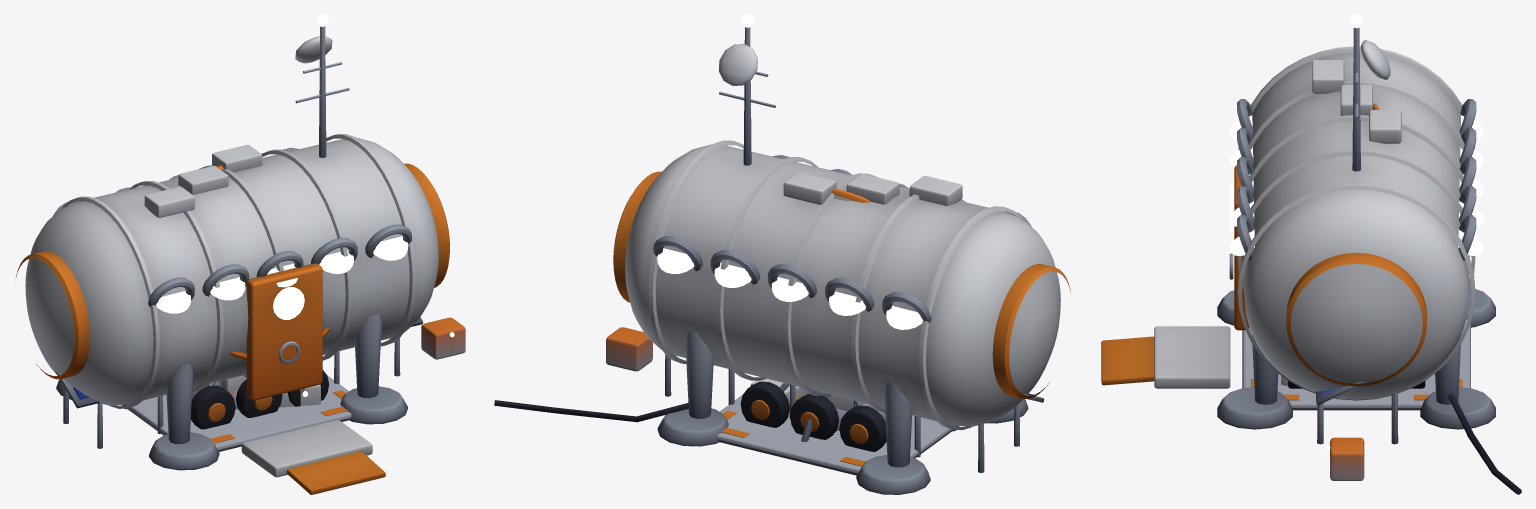
The model's file is props-moon.glb.
3 renders of one model, left to right at view 1: azimuth 30°, elevation 25°; view 2: azimuth 150°, elevation 25°; view 3: azimuth 270°, elevation 25°, orthographic. The views are drawn at different scales.
Visible parts, largest first — view 1: prop-moon-habitat, prop-moon-pad, prop-moon-solar, prop-moon-rover, prop-moon-dish; view 2: prop-moon-habitat, prop-moon-pad, prop-moon-rover, prop-moon-solar; view 3: prop-moon-habitat, prop-moon-pad, prop-moon-solar.
Part boxes in pixels (x1,y1,x2,y2): prop-moon-habitat: [15, 14, 449, 494]; prop-moon-pad: [122, 375, 351, 451]; prop-moon-solar: [55, 317, 465, 448]; prop-moon-rover: [190, 370, 328, 429]; prop-moon-dish: [204, 165, 330, 407]; prop-moon-habitat: [494, 14, 1070, 494]; prop-moon-pad: [717, 395, 958, 475]; prop-moon-rover: [740, 381, 886, 451]; prop-moon-solar: [606, 327, 1044, 472]; prop-moon-habitat: [1101, 14, 1521, 494]; prop-moon-pad: [1242, 319, 1470, 410]; prop-moon-solar: [1316, 381, 1398, 480].
Bounding box in the file's own units: 5.9 × 4.89 × 4.4.
